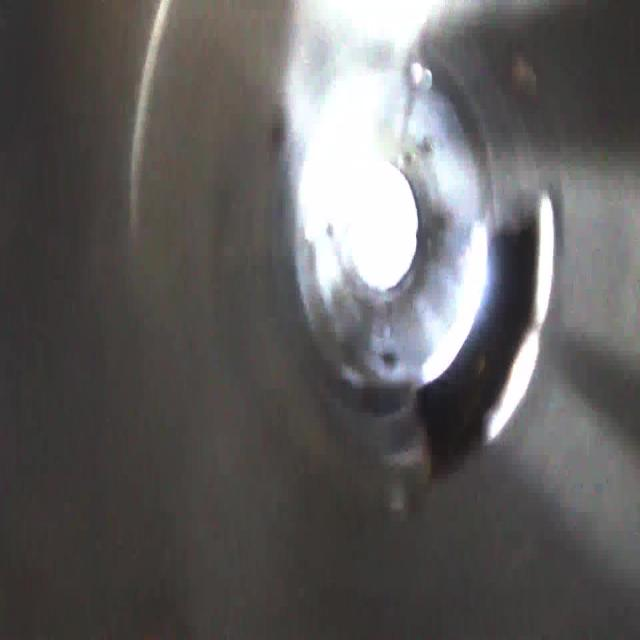hole: (410, 177, 564, 492)
